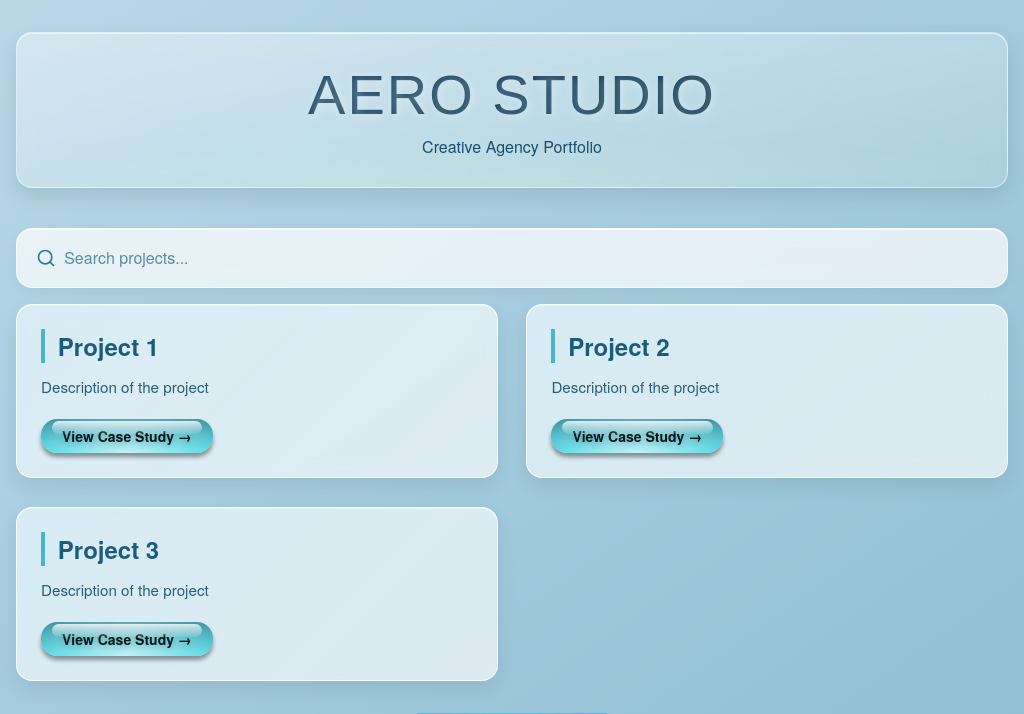
Test: Aero Studio Portfolio › opens and closes case study modal
# Open modal on first project
Click the button "View Case Study →" below "Project 1". click: (127, 436)
box: 41,419 -> 213,453
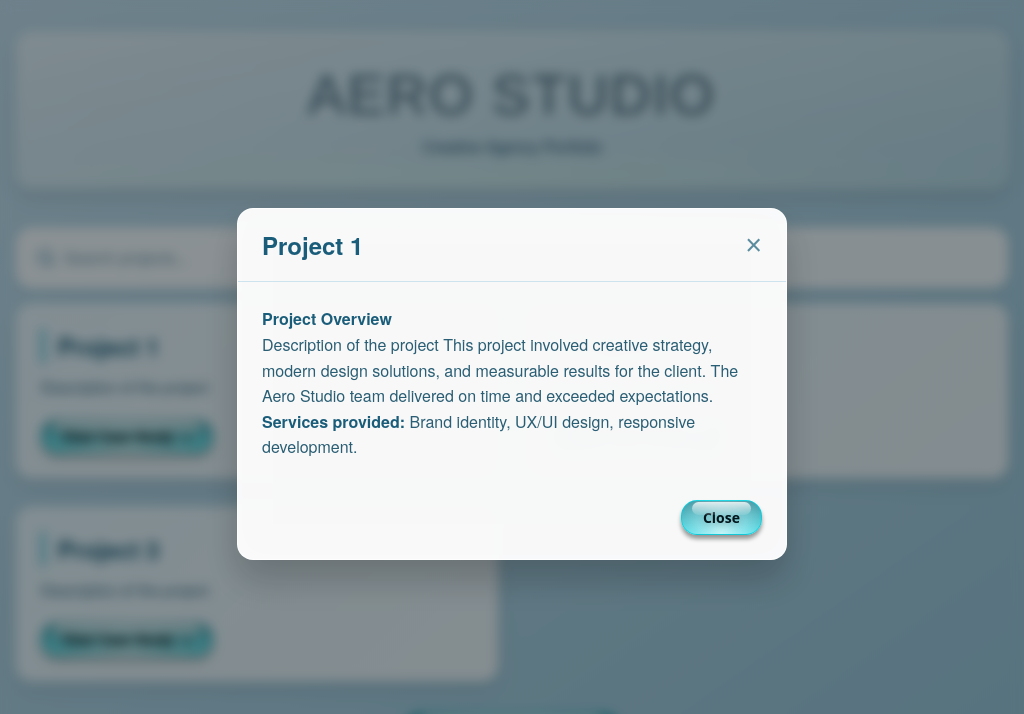
Expected: the text "Project Overview" is shown, 262,307 -> 392,330
# Close modal
Click the button "Close". click: (721, 518)
box: 681,500 -> 762,535
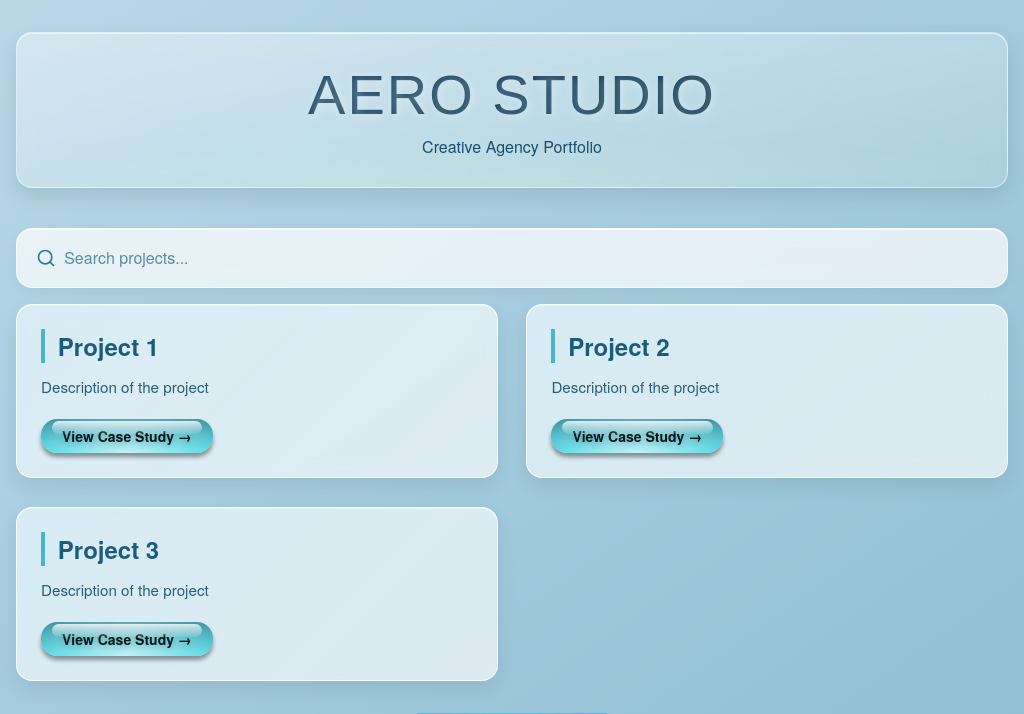
Expected: the text "Project Overview" is gone
